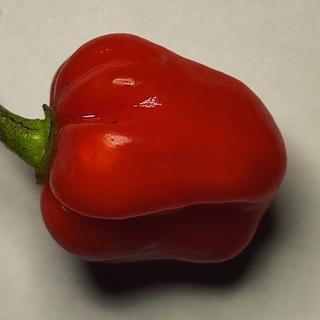Grade-A: (28, 26, 297, 269)
